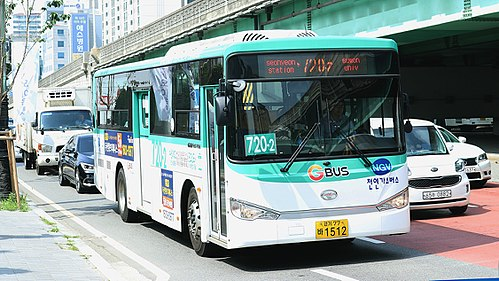bnum: (244, 134, 276, 153)
